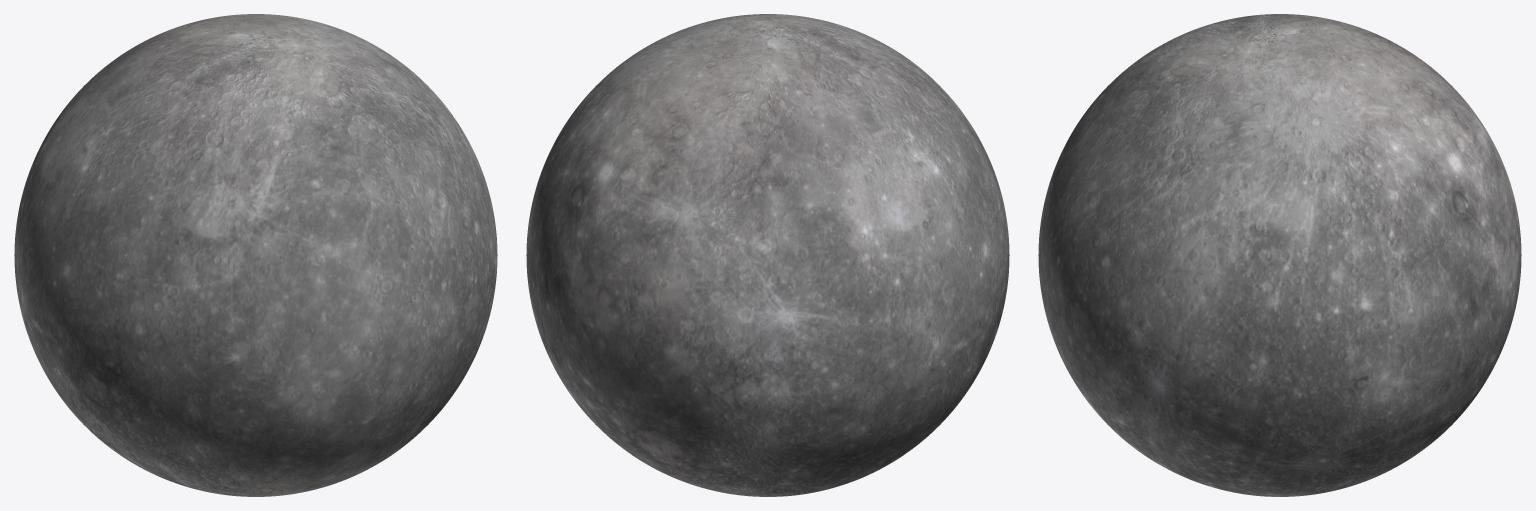
The model's file is mercury.glb.
3 views of the same model, side by side, from view 1: azimuth 30°, elevation 25°; view 2: azimuth 150°, elevation 25°; view 3: azimuth 270°, elevation 25° (orthographic).
Visible parts, largest first — view 1: Mercury; view 2: Mercury; view 3: Mercury.
Boxes of the visible parts, x1,y1,x2,y2 form: Mercury: (14, 14, 497, 496); Mercury: (526, 14, 1009, 496); Mercury: (1038, 14, 1521, 496).
Size of the model in its own units: 2 by 2 by 2.
1 material, 1 textured.
